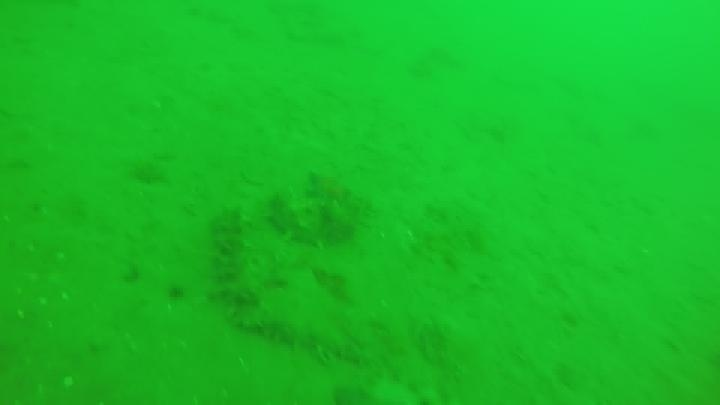holothurian: (220, 298, 369, 366), (206, 206, 266, 310), (262, 189, 361, 250)
starfish: (302, 169, 354, 209)
